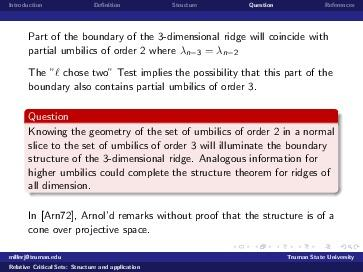paragraph: (25, 126, 346, 243), (25, 25, 346, 103)
title: (24, 107, 90, 126)
